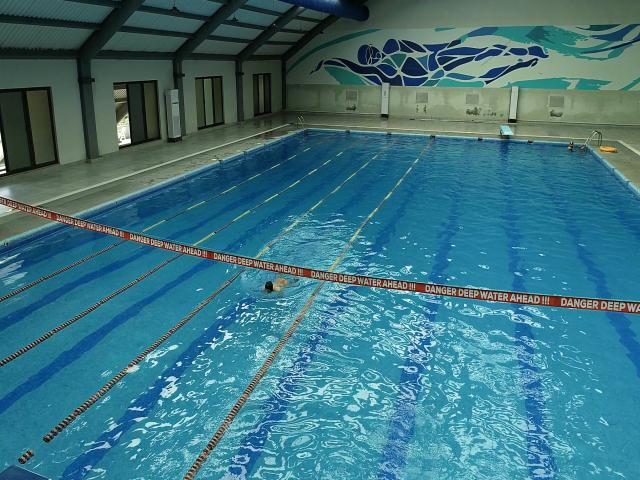swimming: (256, 262, 300, 302)
